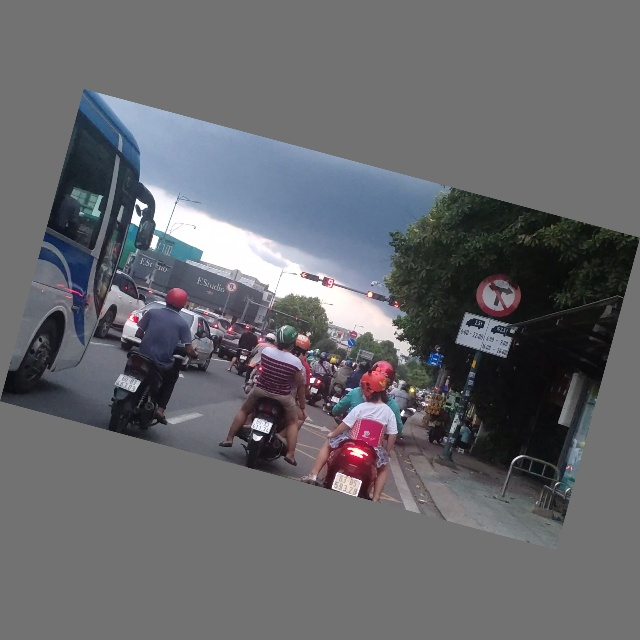P.102: (349, 331, 359, 340)
P.124a*: (224, 280, 239, 295)
P.137: (471, 268, 526, 323)
R.302a: (347, 338, 356, 348)
S.505a*Xe tai: (454, 312, 517, 360)
